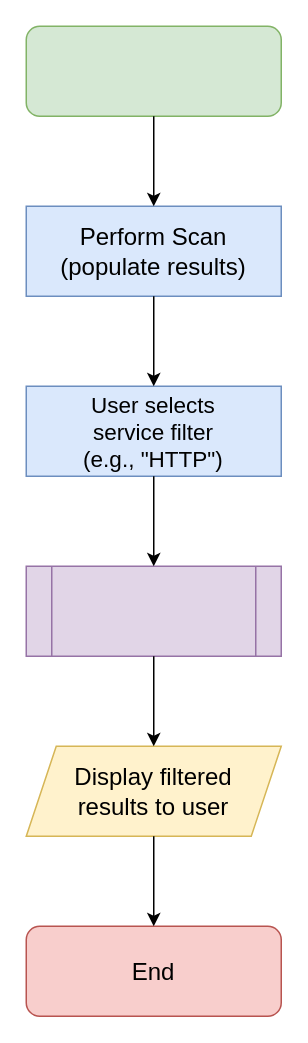
Some shapes in this 308 by 1043 pixel diagram are drawn without their labels. The centre of each missing label's shape, as x and y in pixels:
Apply list comprehension [r for r in results if r[2] == selected_service]: (153,610)
Start Program: (153,70)
